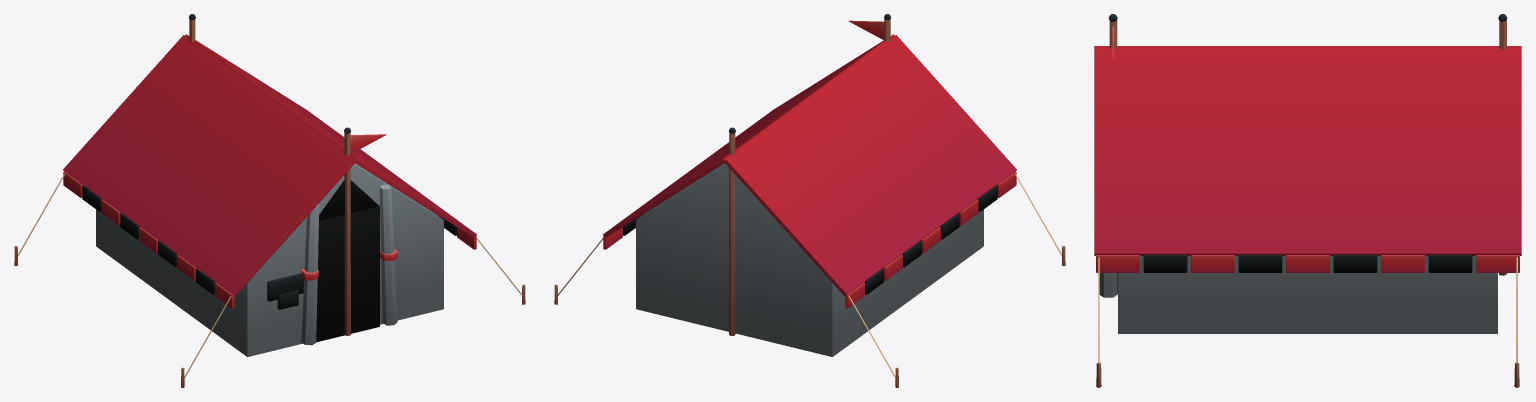
Rendered from scout_tent.glb.
3 views of the same model, side by side, from view 1: azimuth 30°, elevation 25°; view 2: azimuth 150°, elevation 25°; view 3: azimuth 270°, elevation 25° (orthographic). The views are drawn at different scales.
Visible parts, largest first — view 1: scout_tent; view 2: scout_tent; view 3: scout_tent.
Boxes of the visible parts, x1,y1,x2,y2 form: scout_tent: (14, 14, 525, 387); scout_tent: (554, 14, 1065, 387); scout_tent: (1094, 14, 1521, 387).
Bounding box in the file's own units: 5.25 × 3.12 × 4.5.
1 material, 1 textured.
